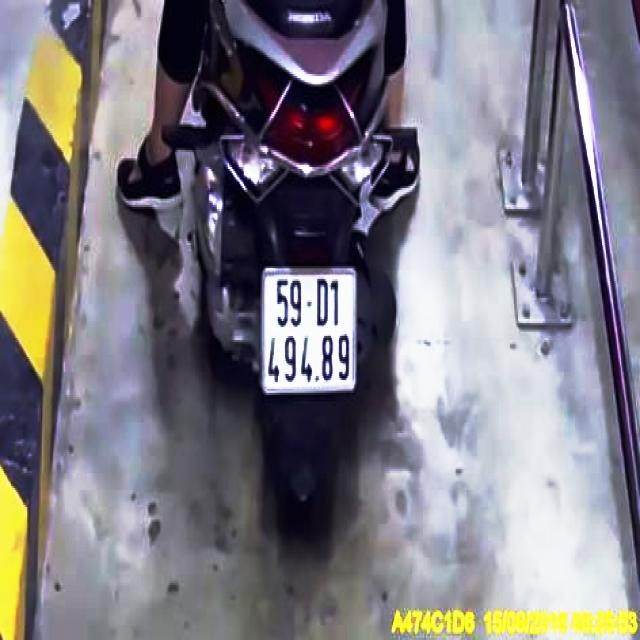license_plate: (266, 273, 358, 387)
